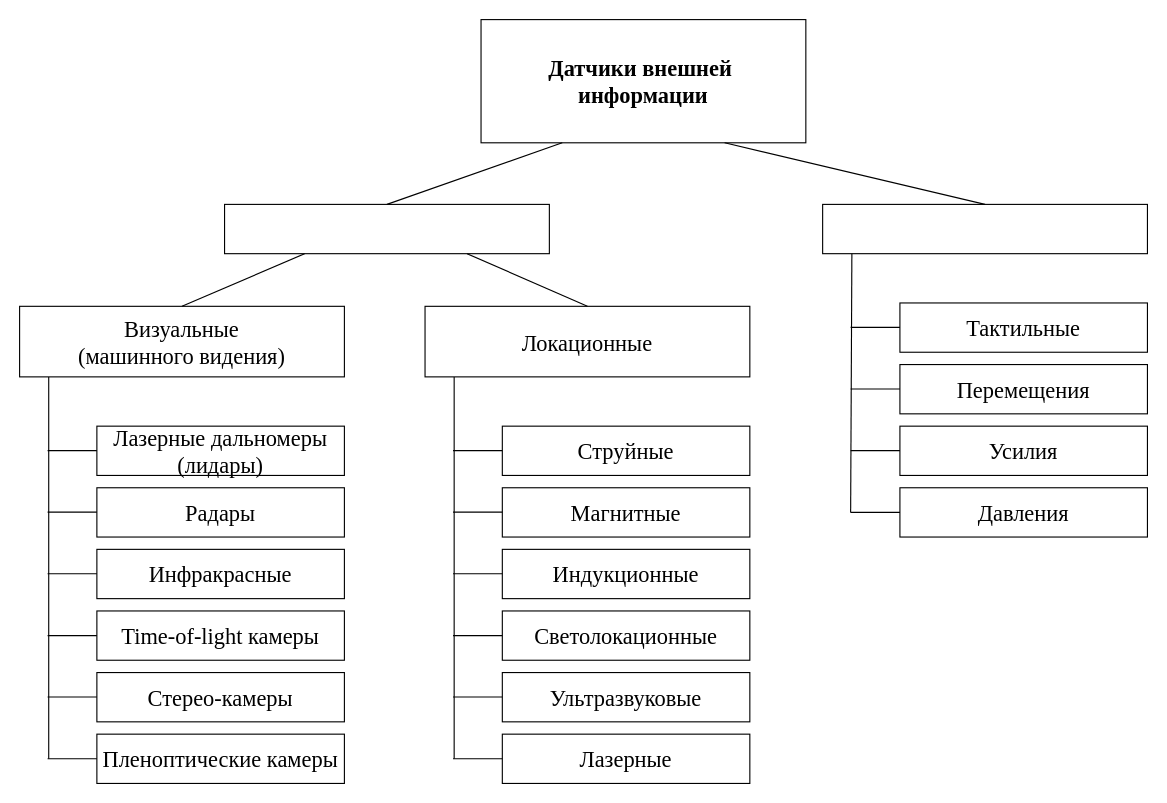
The diagram is 1167 pixels wide and 803 high, and some of its shapes have lost their labels. Here are the shapes that lost their labels. From the top down, the centre of each, then its label:
At point 386,228: "Дистанционные".
At point 984,228: "Контактные".
